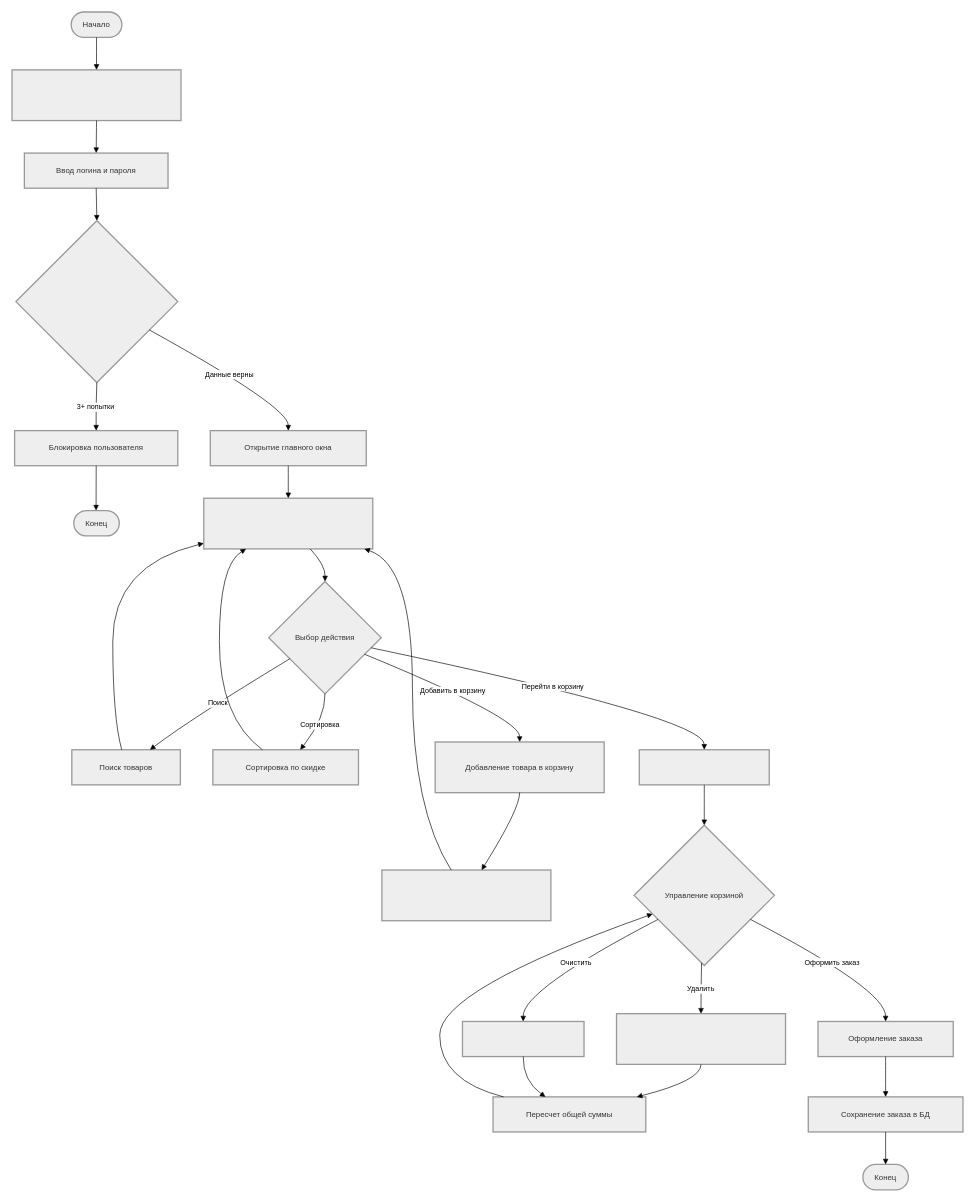
Some shapes in this 974 by 1201 pixel diagram are drawn without their labels. The shapes that lost their labels are listed below. From the top down, each one's centre as x and y in pixels, then its label:
the point at 96,95: Открытие формы авторизации
the point at 96,301: Проверка учетных данных
the point at 288,523: Отображение карточек товаров
the point at 704,767: Переход в корзину
the point at 466,895: Обновление счетчика корзины
the point at 523,1038: Очистка корзины
the point at 701,1039: Удаление товара из корзины
